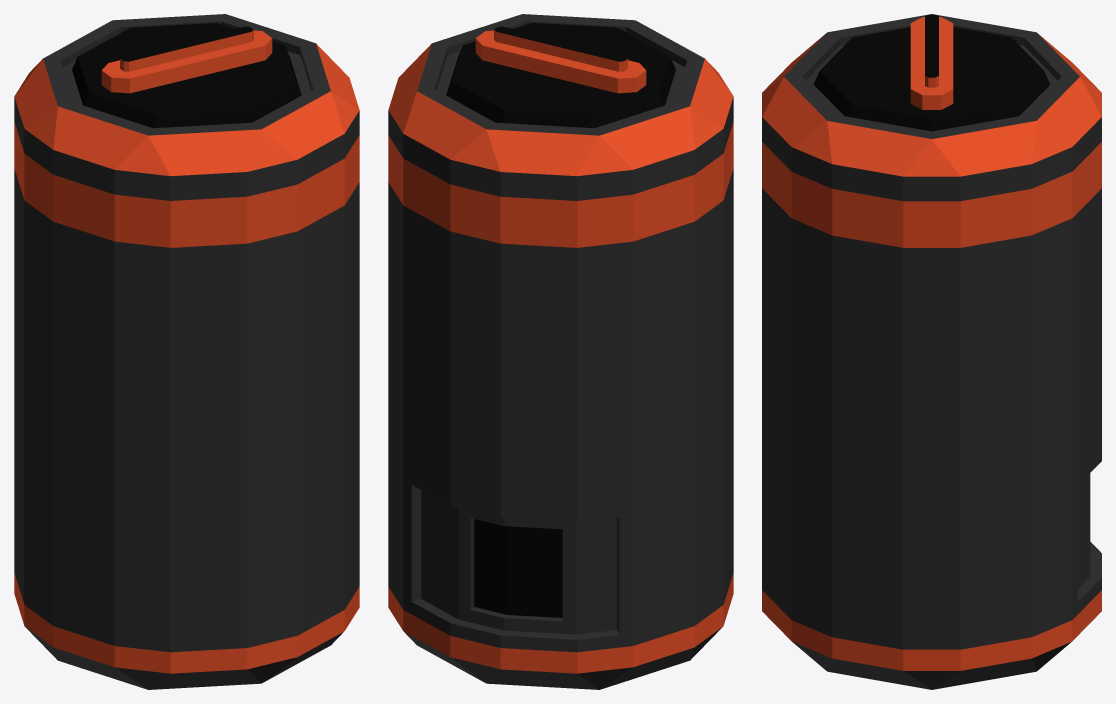
File: contair.fbx
3 renders of one model, left to right at view 1: azimuth 30°, elevation 25°; view 2: azimuth 150°, elevation 25°; view 3: azimuth 270°, elevation 25°, orthographic.
Parts seen in each view (by area): view 1: contair; view 2: contair; view 3: contair.
Part boxes in pixels (x1,y1,x2,y2): contair: [14, 14, 359, 689]; contair: [388, 14, 733, 689]; contair: [762, 14, 1101, 689].
Bounding box in the file's own units: 25.92 × 48.93 × 25.92.
